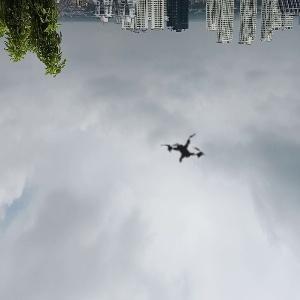drone: (148, 113, 220, 185)
